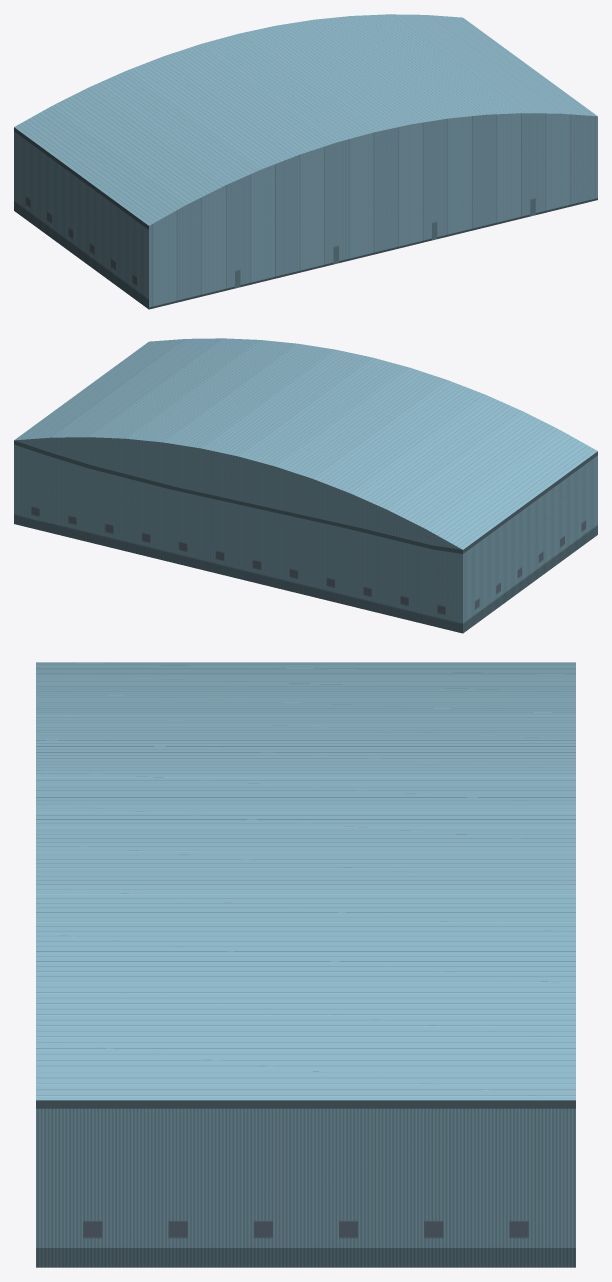
Rendered from khsv_hangar_73x38.glb.
The picture shows the model from 3 angles, top to bottom: view 1: azimuth 30°, elevation 25°; view 2: azimuth 150°, elevation 25°; view 3: azimuth 270°, elevation 25°; orthographic projection. The views are drawn at different scales.
Visible parts, largest first — view 1: khsv_hangar_73x38_hangar_roof, khsv_hangar_73x38_hangar_door, khsv_hangar_73x38_hangar_wall; view 2: khsv_hangar_73x38_hangar_wall, khsv_hangar_73x38_hangar_roof; view 3: khsv_hangar_73x38_hangar_roof, khsv_hangar_73x38_hangar_wall.
Part boxes in pixels (bbox=[...]): khsv_hangar_73x38_hangar_roof: bbox=[14, 14, 597, 225]; khsv_hangar_73x38_hangar_door: bbox=[149, 113, 597, 309]; khsv_hangar_73x38_hangar_wall: bbox=[14, 127, 148, 309]; khsv_hangar_73x38_hangar_wall: bbox=[14, 437, 597, 633]; khsv_hangar_73x38_hangar_roof: bbox=[14, 338, 597, 549]; khsv_hangar_73x38_hangar_roof: bbox=[36, 662, 575, 1100]; khsv_hangar_73x38_hangar_wall: bbox=[36, 1100, 575, 1267].
Size of the model in its own units: 73 by 19 by 38.
Materials: 3 (3 with a texture image).
